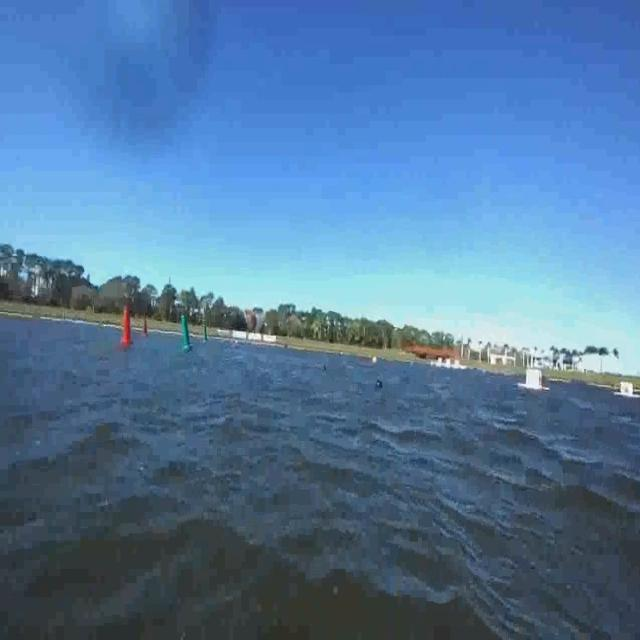green-column-buoy: (181, 312, 193, 355), (203, 320, 208, 342)
red-column-buoy: (122, 304, 132, 346), (144, 318, 147, 334)
